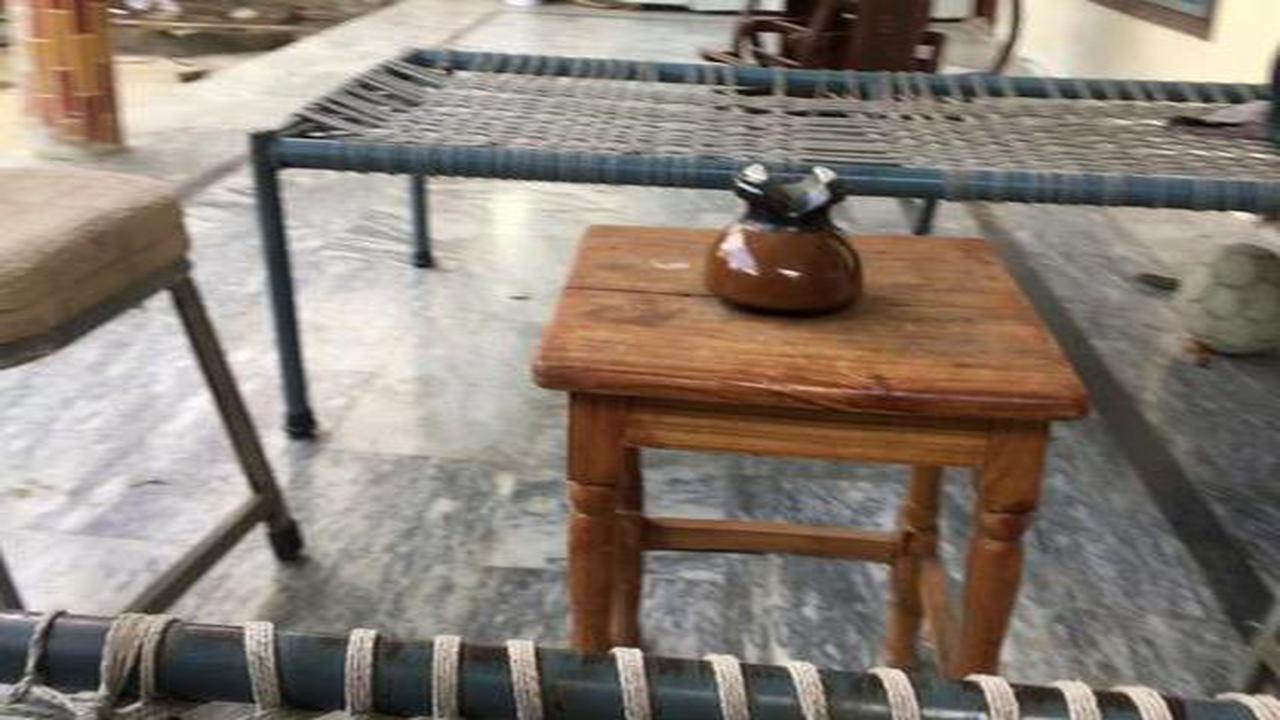insulator_pin: (677, 143, 896, 328)
